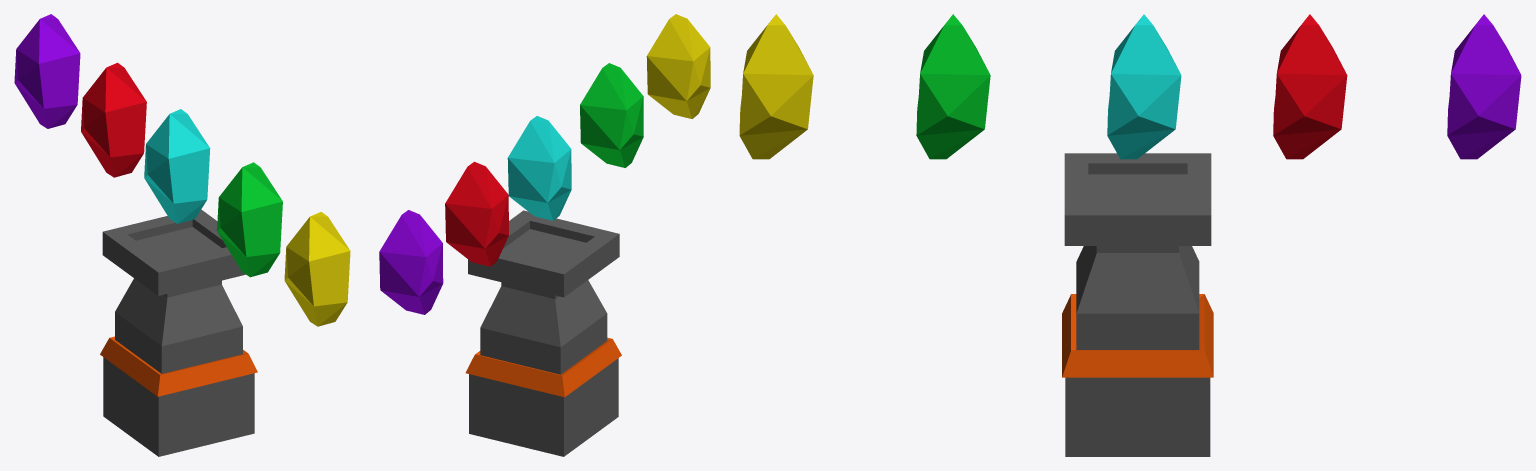
The model's file is CrytalAltar.fbx.
3 renders of one model, left to right at view 1: azimuth 30°, elevation 25°; view 2: azimuth 150°, elevation 25°; view 3: azimuth 270°, elevation 25°, orthographic. The views are drawn at different scales.
Parts seen in each view (by area): view 1: Cube, Cube.005, Cube.002, Cube.003, Cube.006, Cube.004, Cube.001; view 2: Cube, Cube.002, Cube.005, Cube.006, Cube.003, Cube.004, Cube.001; view 3: Cube, Cube.003, Cube.004, Cube.002, Cube.005, Cube.006, Cube.001.
Part boxes in pixels (bbox=[...]): Cube: bbox=[102, 209, 254, 456]; Cube.005: bbox=[217, 162, 282, 277]; Cube.002: bbox=[144, 109, 210, 223]; Cube.003: bbox=[81, 62, 146, 177]; Cube.006: bbox=[284, 212, 350, 326]; Cube.004: bbox=[14, 14, 80, 128]; Cube.001: bbox=[100, 336, 257, 396]; Cube: bbox=[468, 210, 619, 456]; Cube.002: bbox=[507, 116, 571, 220]; Cube.005: bbox=[580, 63, 643, 167]; Cube.006: bbox=[646, 14, 710, 118]; Cube.003: bbox=[445, 161, 508, 266]; Cube.004: bbox=[379, 210, 443, 314]; Cube.001: bbox=[465, 337, 621, 397]; Cube: bbox=[1064, 153, 1211, 456]; Cube.003: bbox=[1273, 14, 1347, 159]; Cube.004: bbox=[1447, 14, 1521, 159]; Cube.002: bbox=[1107, 14, 1181, 159]; Cube.005: bbox=[916, 14, 990, 159]; Cube.006: bbox=[739, 14, 813, 159]; Cube.001: bbox=[1062, 294, 1213, 377].
Size of the model in its own units: 306 by 907 by 1577.
